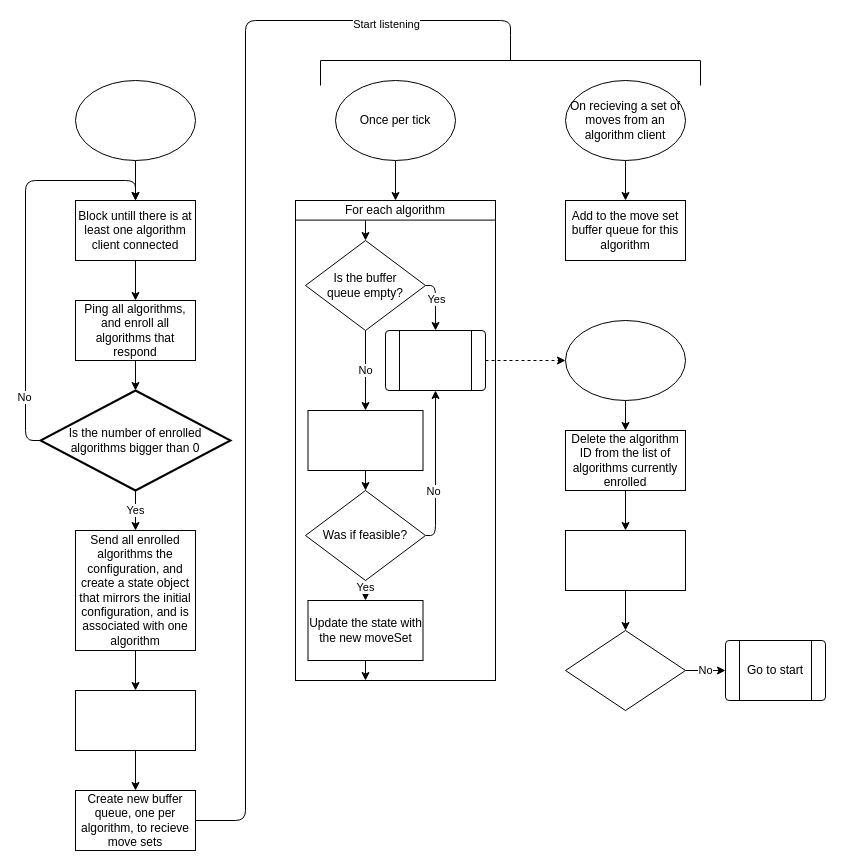
Some shapes in this 843 by 868 pixel diagram are drawn without their labels. The shapes that lost their labels are listed below. From the top down, each one's centre as x and y in pixels, then its label:
(135,120): Start
(435,360): Disqualify (with a reason message)
(625,360): Disqualify
(365,440): Send the move set to the state mirroring that algorithm to verify feasibility
(625,560): Send the algorithm the message for why it is disqualified
(625,670): Are there any algos still enrolled
(135,720): Tell the algorithm clients that the round is starting
